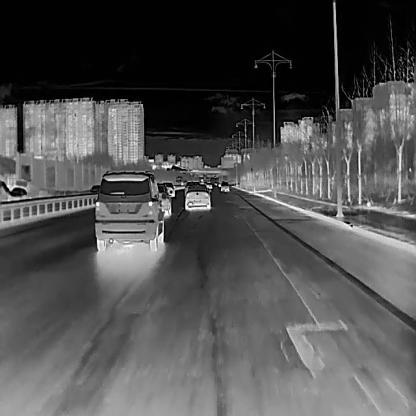car: (94, 171, 165, 251), (185, 183, 210, 210), (156, 183, 171, 217), (8, 186, 26, 199), (219, 180, 229, 190)
